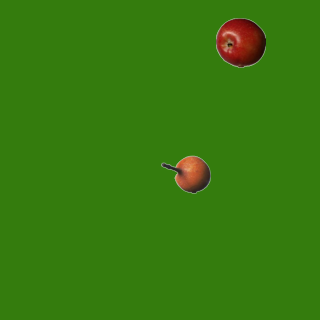Apple Braeburn: (215, 17, 265, 67)
Granadilla: (160, 149, 210, 199)
